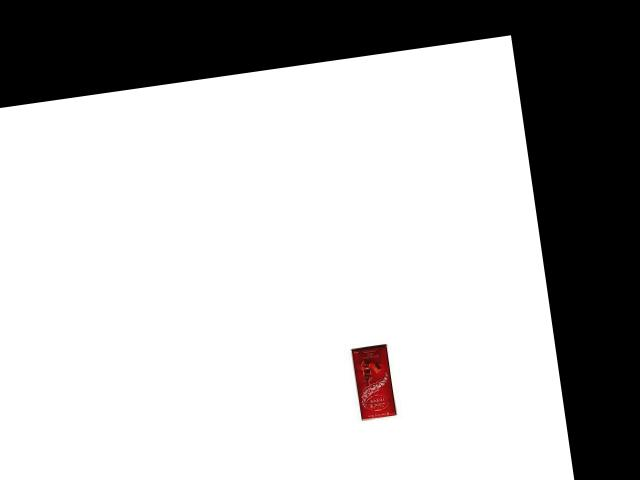chocolate: (348, 338, 397, 422)
